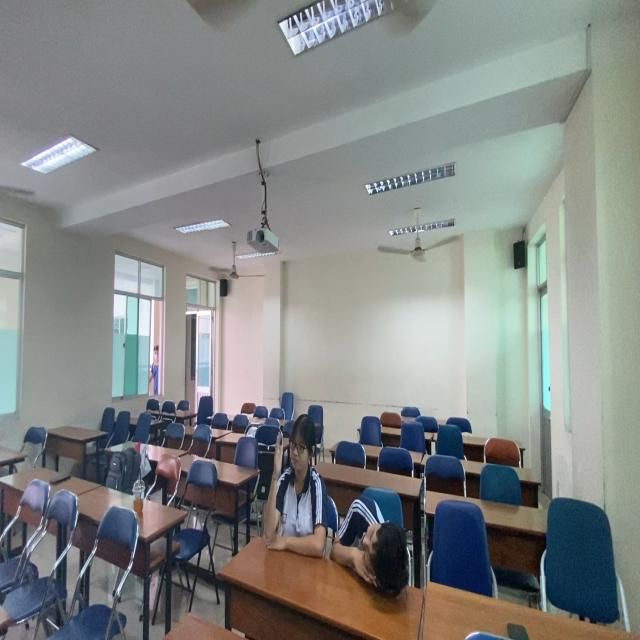raise_hand: (263, 413, 322, 551)
sleep: (330, 493, 423, 596)
